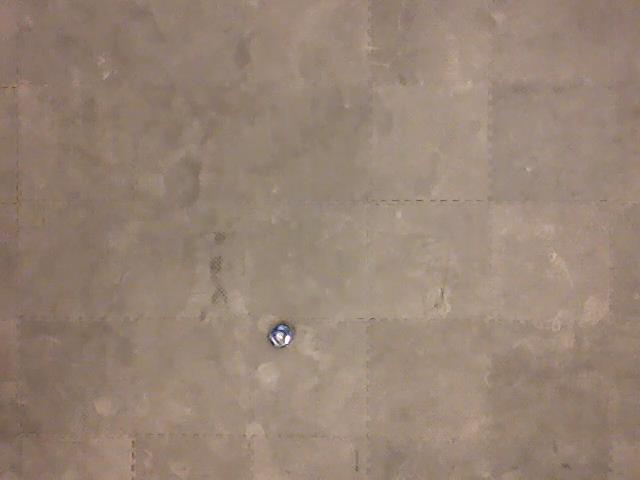Agent: (266, 321, 295, 350)
